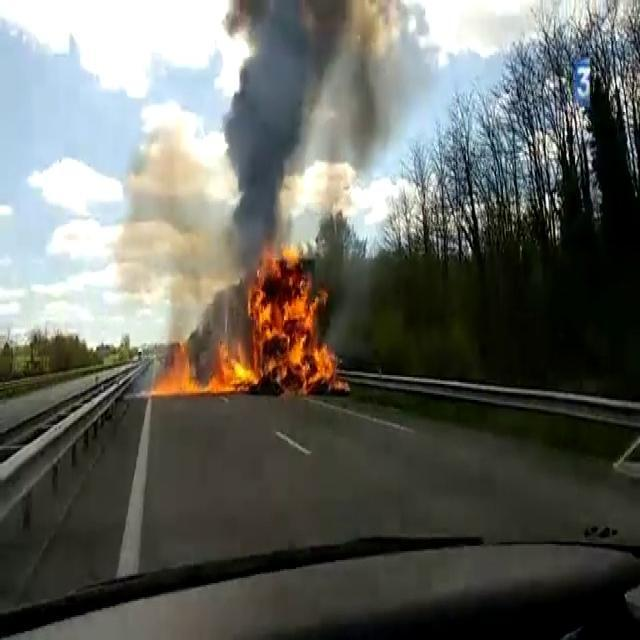Fire: (240, 244, 338, 404), (152, 340, 258, 398)
Smoke: (215, 0, 405, 245), (104, 106, 231, 340)
